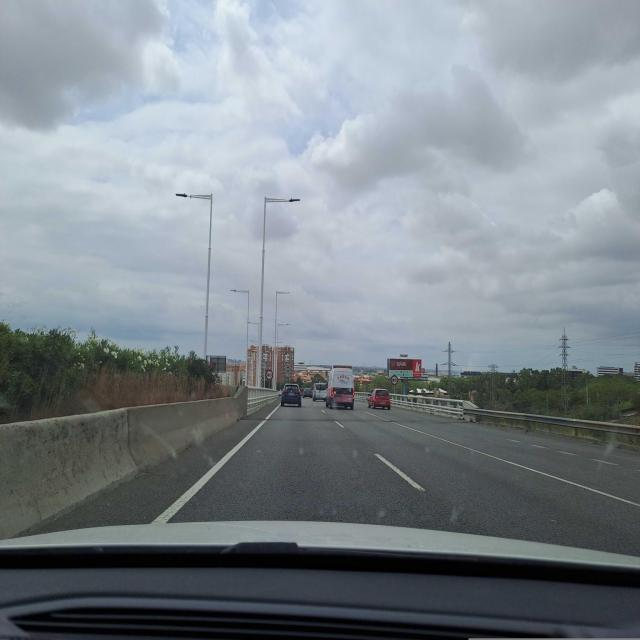car: (280, 383, 302, 408), (367, 388, 391, 409), (313, 382, 327, 401), (303, 387, 313, 398)
